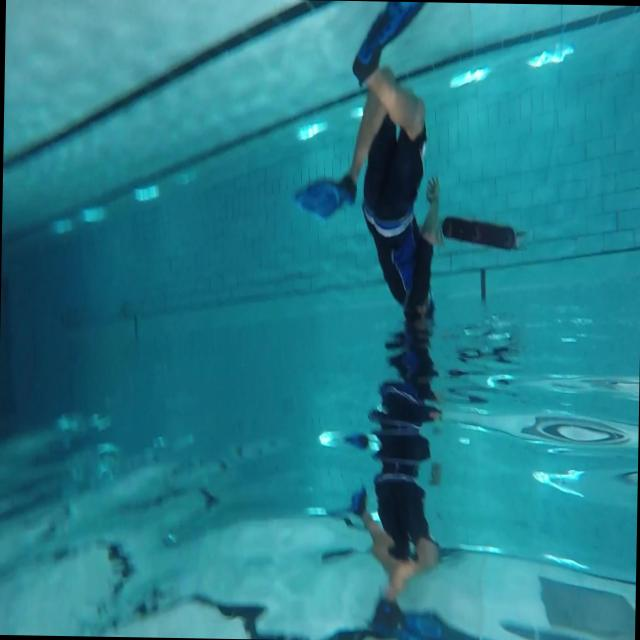human: (339, 1, 446, 374)
